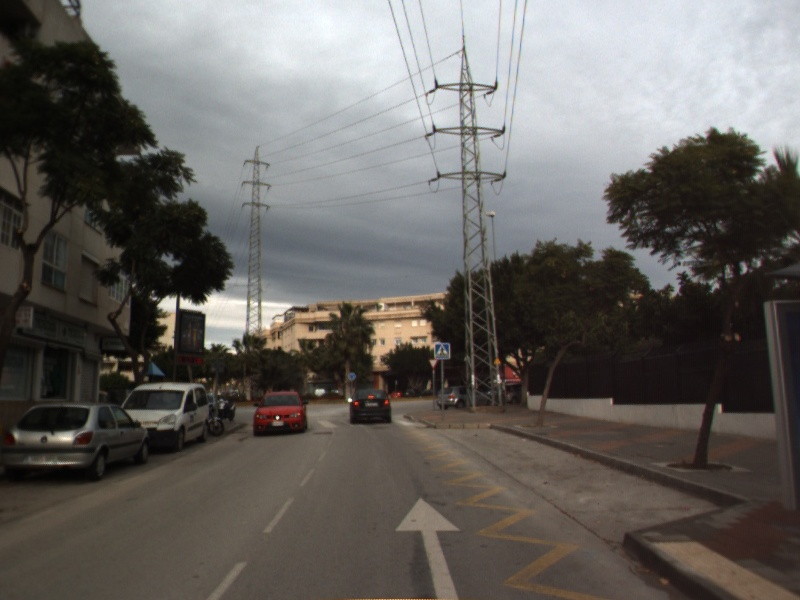STRAIGHT: (391, 493, 466, 600)
